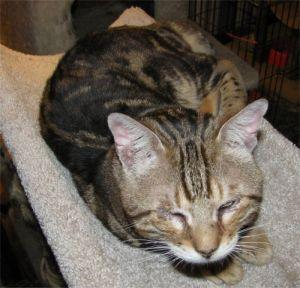bengal: (101, 95, 278, 271)
